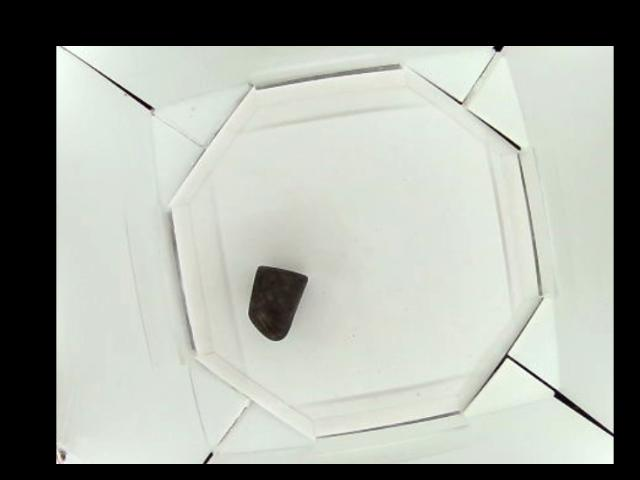Pebble: (248, 264, 305, 340)
